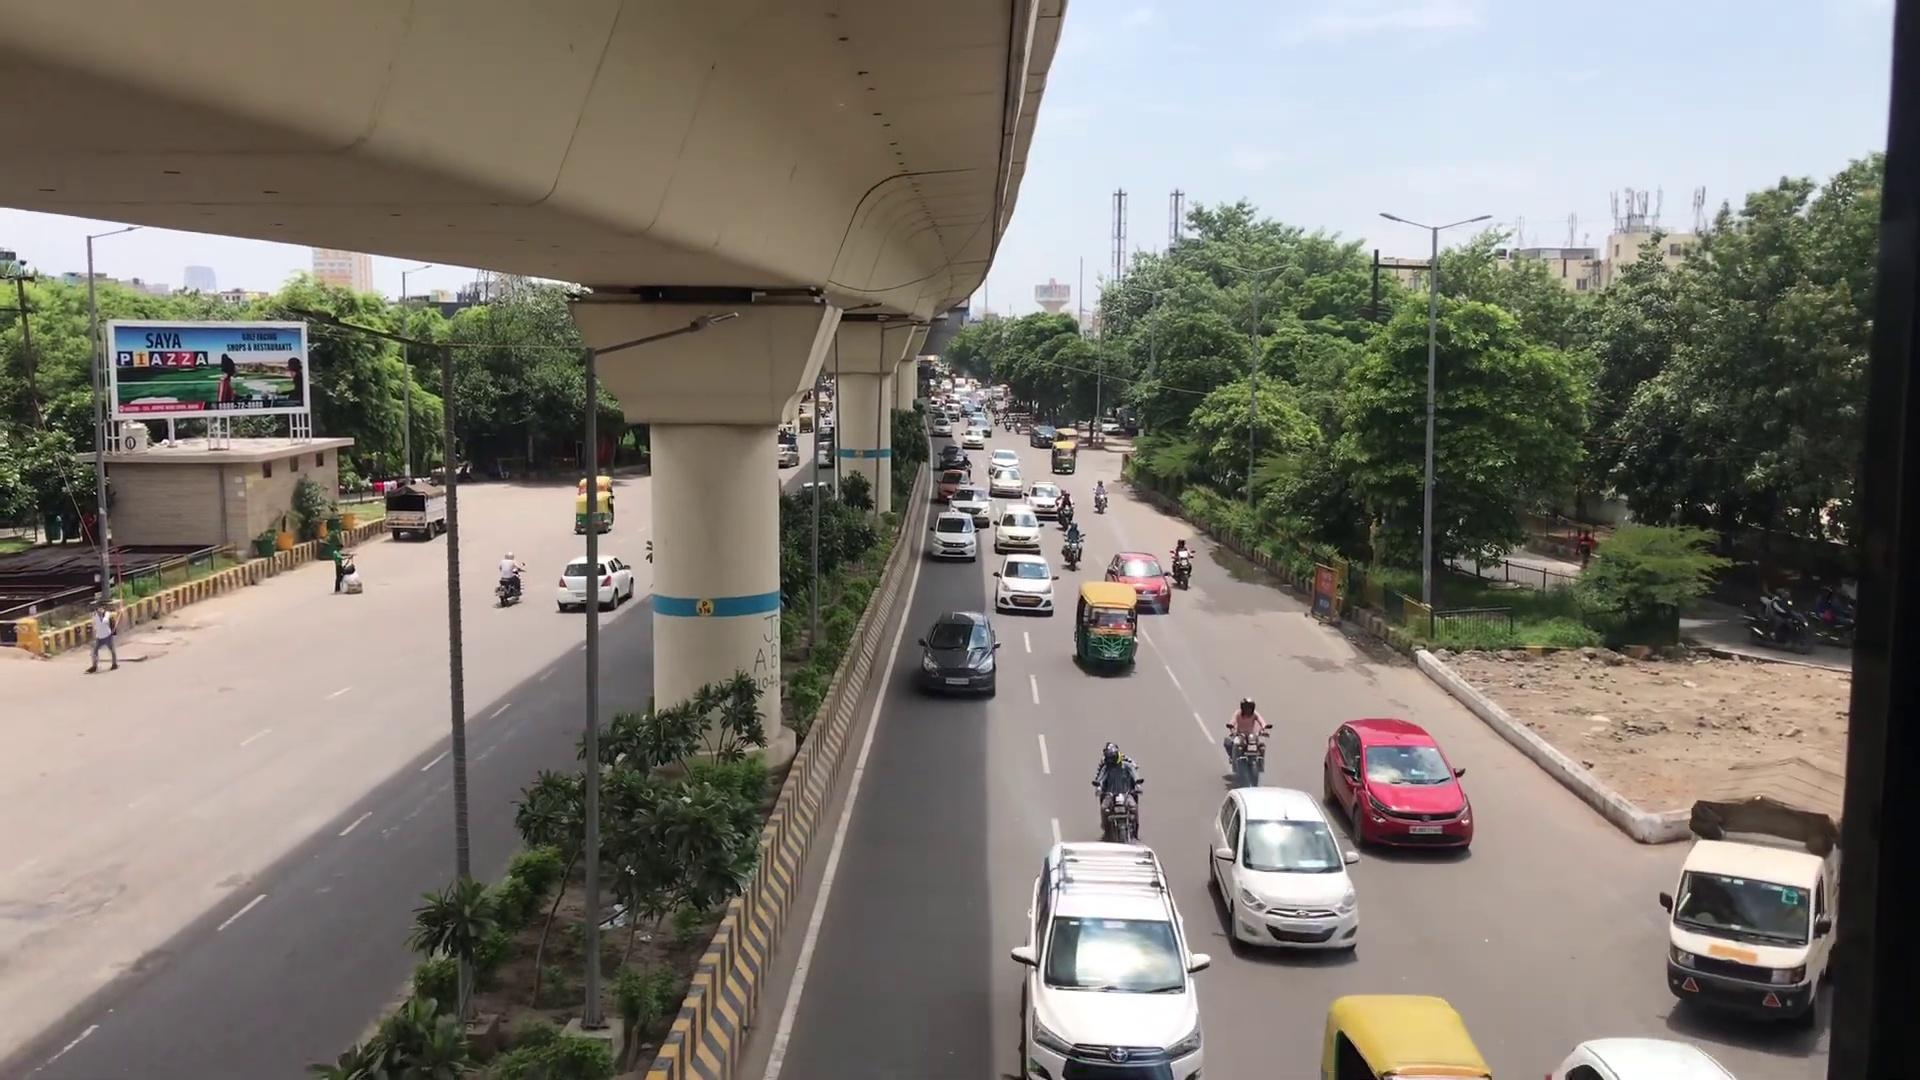Auto: (1319, 990, 1491, 1080), (1073, 578, 1138, 674)
Bike: (1092, 741, 1142, 844), (1222, 698, 1270, 787), (492, 549, 524, 609), (1170, 535, 1196, 591), (1063, 520, 1084, 570), (1091, 476, 1110, 514)
Truck: (1662, 789, 1842, 1025)
